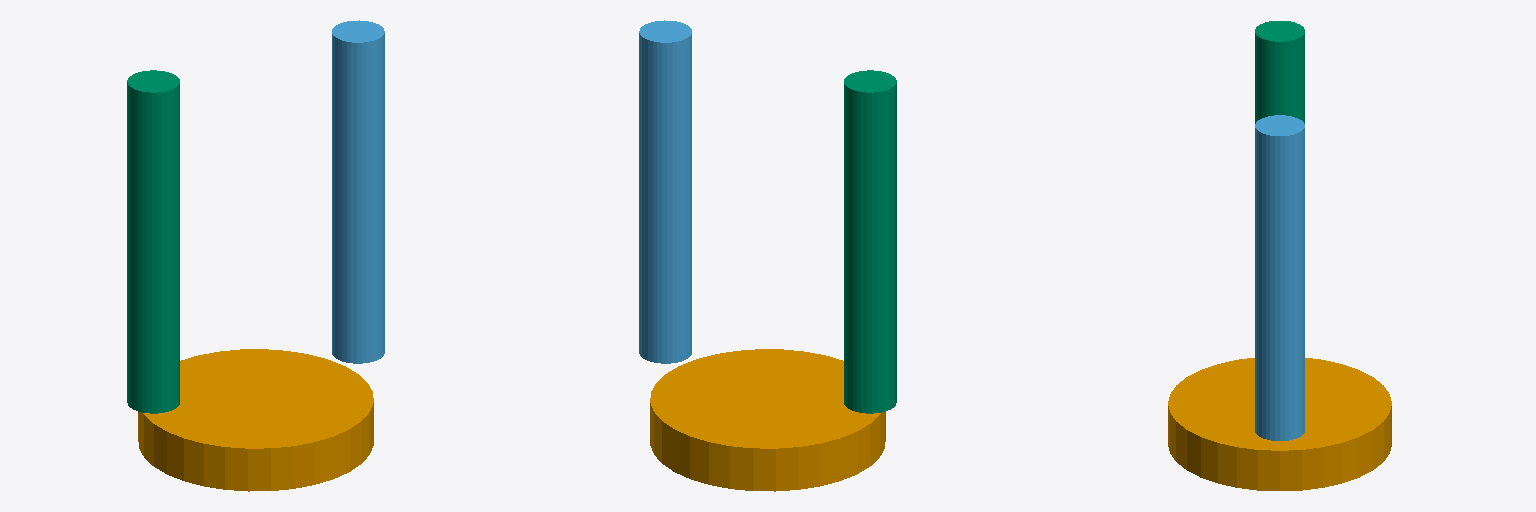
URDF robot description (Pinch_Gripper):
<?xml version="1.0"?>
<robot name="Pinch_Gripper">

    <link name="palm_link">
        <visual>
            <geometry>
                <cylinder radius="0.0250" length="0.0100"/>
            </geometry>
        </visual>
        <collision>
            <geometry>
                <cylinder radius="0.0250" length="0.0100"/>
            </geometry>
        </collision>
    </link>

    
    <link name="finger_0_link">
        <visual>
            <geometry>
                <cylinder radius="0.0056" length="0.0750"/>
            </geometry>
            <origin xyz="0 0 0.0375"/>
        </visual>
        <collision>
            <geometry>
                <cylinder radius="0.0056" length="0.0750"/>
            </geometry>
            <origin xyz="0 0 0.0375"/>
        </collision>
    </link>

    <joint name="finger_0_joint" type="revolute">
        <parent link="palm_link"/>
        <child link="finger_0_link"/>
        <origin xyz="0.0250 0.0000 0.0100" rpy="0 0 0.0000"/>
        <axis xyz="0 1 0"/>
        <limit lower="-1.57" upper="1.57" effort="10" velocity="1"/>
    </joint>

    <link name="finger_1_link">
        <visual>
            <geometry>
                <cylinder radius="0.0056" length="0.0750"/>
            </geometry>
            <origin xyz="0 0 0.0375"/>
        </visual>
        <collision>
            <geometry>
                <cylinder radius="0.0056" length="0.0750"/>
            </geometry>
            <origin xyz="0 0 0.0375"/>
        </collision>
    </link>

    <joint name="finger_1_joint" type="revolute">
        <parent link="palm_link"/>
        <child link="finger_1_link"/>
        <origin xyz="-0.0250 0.0000 0.0100" rpy="0 0 3.1416"/>
        <axis xyz="0 1 0"/>
        <limit lower="-1.57" upper="1.57" effort="10" velocity="1"/>
    </joint>

</robot>

--- Render facts (derived) ---
3 views of the same robot in one strip: view 1: azimuth 30°, elevation 25°; view 2: azimuth 150°, elevation 25°; view 3: azimuth 270°, elevation 25° (orthographic).
Model Pinch_Gripper with 3 links and 2 joints (2 revolute), rooted at palm_link, posed all joints at 0.
Visible links, largest first — view 1: palm_link, finger_1_link, finger_0_link; view 2: palm_link, finger_1_link, finger_0_link; view 3: palm_link, finger_0_link, finger_1_link.
Link boxes in pixels (x1=…): palm_link: x1=138, y1=349, x2=373, y2=491; finger_1_link: x1=127, y1=70, x2=179, y2=413; finger_0_link: x1=332, y1=20, x2=384, y2=363; palm_link: x1=650, y1=349, x2=885, y2=491; finger_1_link: x1=844, y1=70, x2=896, y2=413; finger_0_link: x1=639, y1=20, x2=691, y2=363; palm_link: x1=1168, y1=358, x2=1391, y2=490; finger_0_link: x1=1255, y1=115, x2=1304, y2=440; finger_1_link: x1=1255, y1=21, x2=1304, y2=123.
Size in the robot's own frame: 0.0612 by 0.05 by 0.09 metres.
Geometry: primitives only (box / cylinder / sphere), no mesh files.